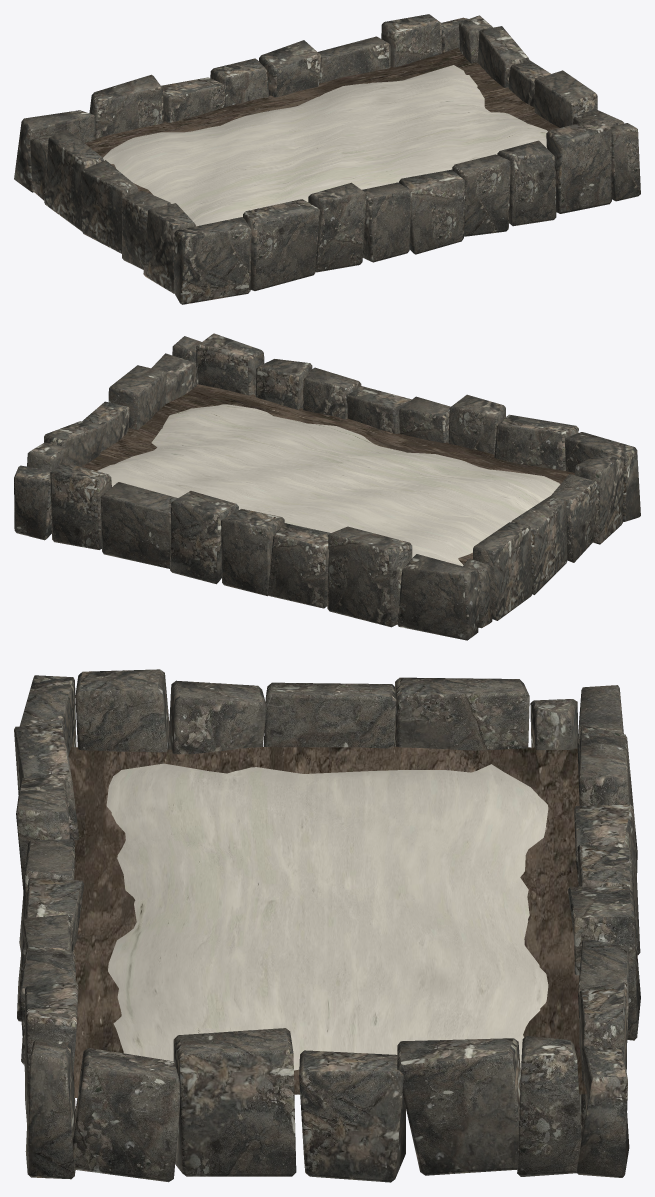
File: kit_salt_pan_p.glb
3 views of the same model, one above another, from view 1: azimuth 30°, elevation 25°; view 2: azimuth 150°, elevation 25°; view 3: azimuth 270°, elevation 25° (orthographic). The views are drawn at different scales.
Visible parts, largest first — view 1: kit_salt_pan_p; view 2: kit_salt_pan_p; view 3: kit_salt_pan_p.
Part boxes in pixels (box(x1,y1,x2,y2)): kit_salt_pan_p: box(14, 14, 640, 304); kit_salt_pan_p: box(14, 333, 640, 640); kit_salt_pan_p: box(14, 669, 640, 1182).
Size of the model in its own units: 3.03 by 0.525 by 2.05.
1 material, 1 textured.
